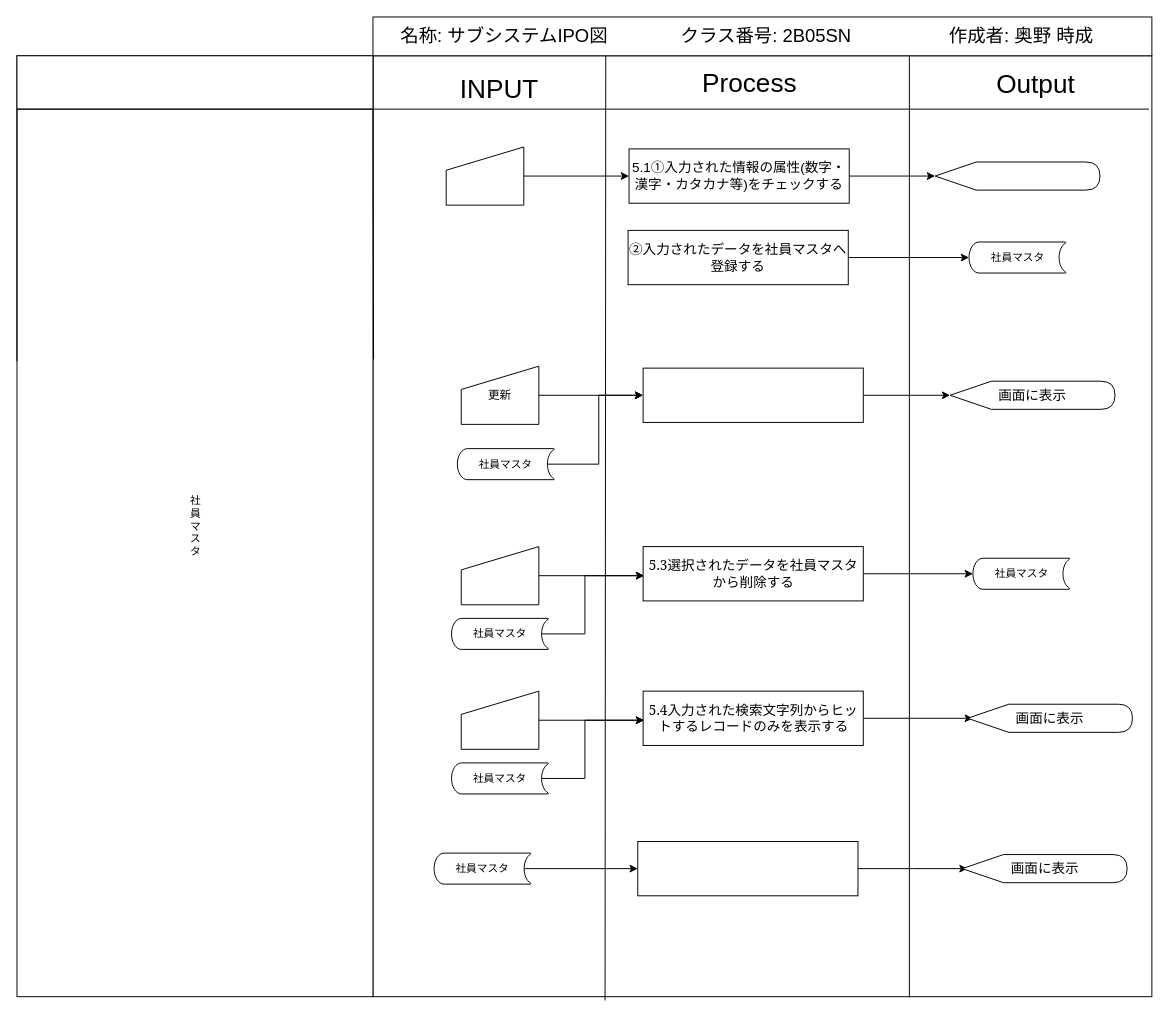
This 1169x1019 diagram has some shape labels left out. Here are the shapes that lost their labels. From the top down, the centre of each, then its label:
[194,82]: 各サブシステムの名称
[484,175]: 新規社員情報
[1017,175]: エラーメッセージ
[752,394]: 5.2 ①社員情報を更新する
[499,575]: 削除
[499,719]: 検索
[747,868]: 5.5会員一覧を画面に表示する
